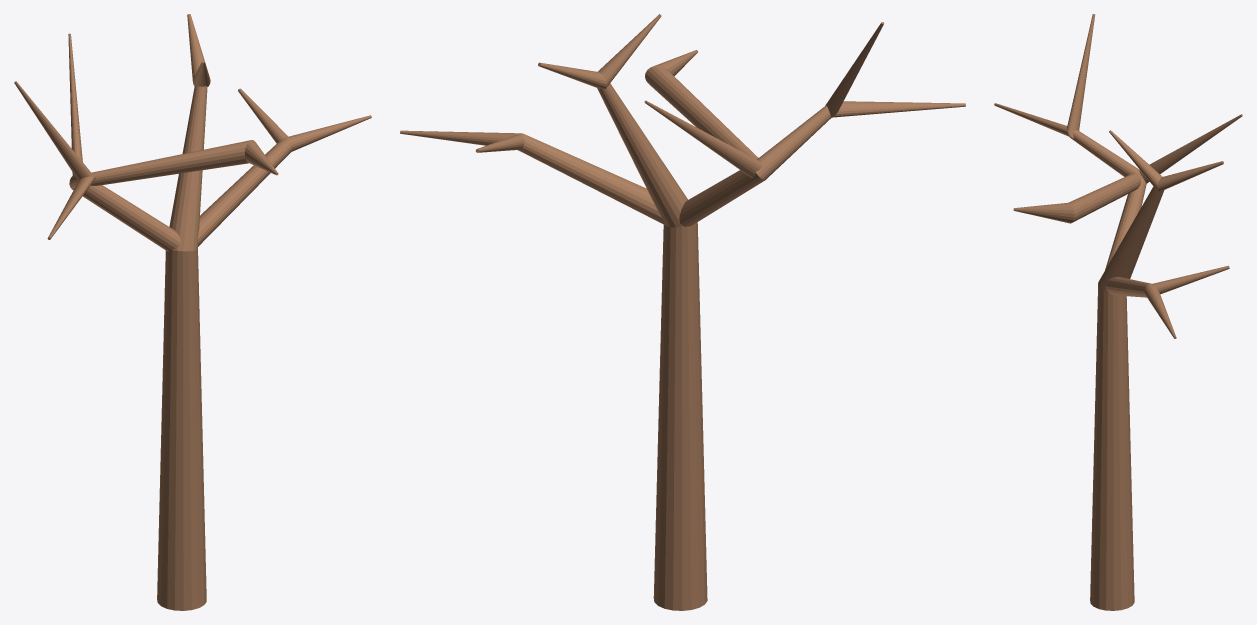
File: tree3.fbx
The picture shows the model from 3 angles, left to right: view 1: azimuth 30°, elevation 25°; view 2: azimuth 150°, elevation 25°; view 3: azimuth 270°, elevation 25°; orthographic projection. The views are drawn at different scales.
Parts seen in each view (by area): view 1: Cube; view 2: Cube; view 3: Cube.
Part boxes in pixels (x1=…): Cube: x1=14, y1=14, x2=371, y2=610; Cube: x1=400, y1=14, x2=965, y2=610; Cube: x1=994, y1=14, x2=1242, y2=610.
Bounding box in the file's own units: 316 × 406 × 179.
